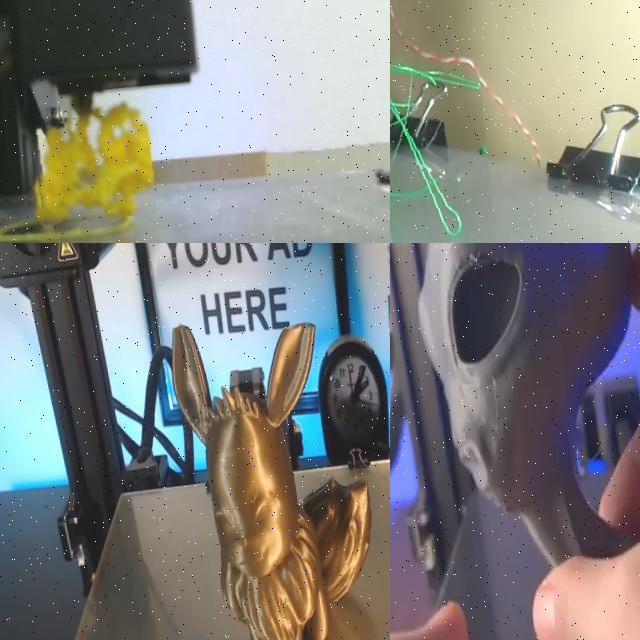spaghetti: (390, 30, 498, 243), (38, 103, 153, 220)
